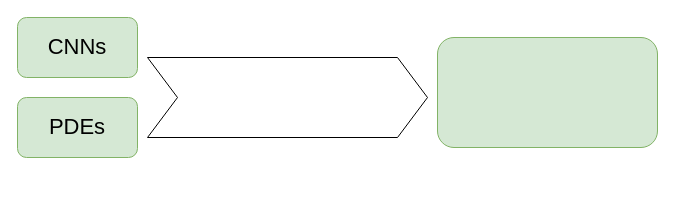
Image size: 675x206. Some labels were removed from this diagram. Here are the shapes that lost their labels. From the top down, the centre of each, then its label:
At (x=287, y=97): "Solve PDEs through their image representation using CNNs.".
At (x=547, y=92): "efficiency acceptable error better running time".
